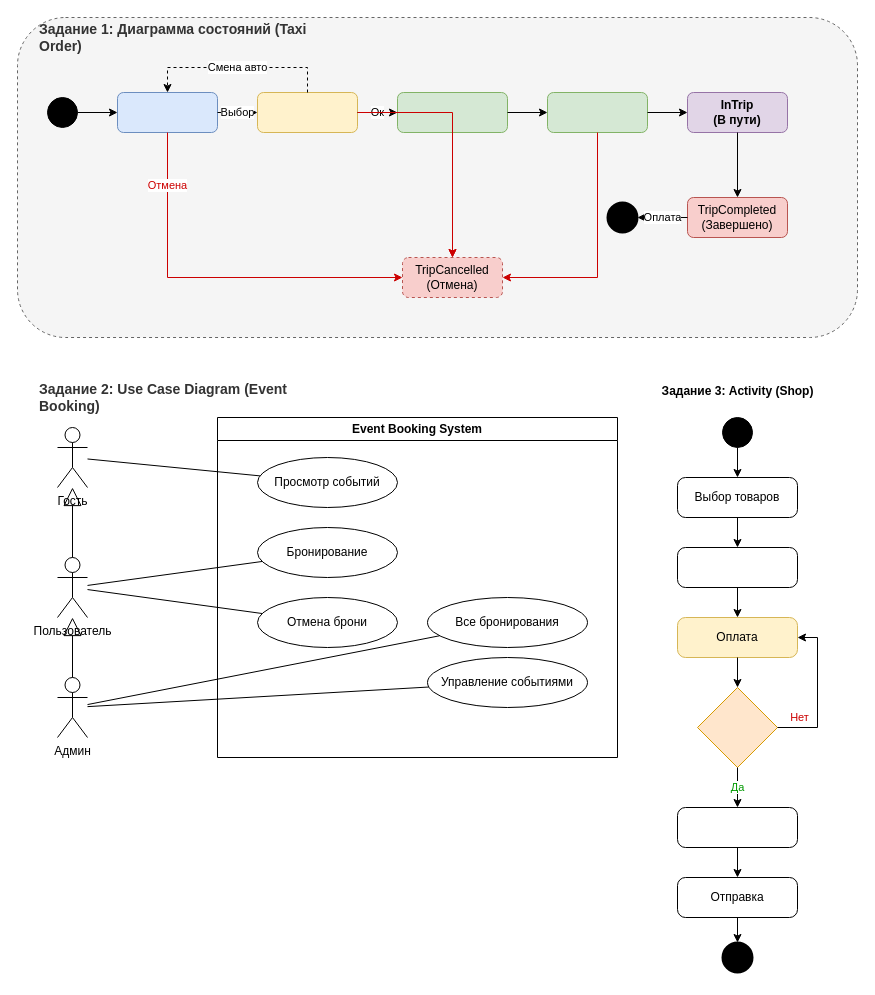
This 875x995 diagram has some shape labels left out. The box of each missing label's shape, as (x1, y1, x2, y2) in pixels:
CarArrived (Прибыл): (546, 92, 648, 132)
CarSelected (Выбрано): (256, 92, 358, 132)
Idle (Ожидание): (116, 92, 218, 132)
OrderConfirmed (Подтверждено): (396, 92, 508, 132)
Оформление: (676, 546, 798, 588)
Склад: (676, 806, 798, 848)
Успех?: (696, 686, 778, 768)
